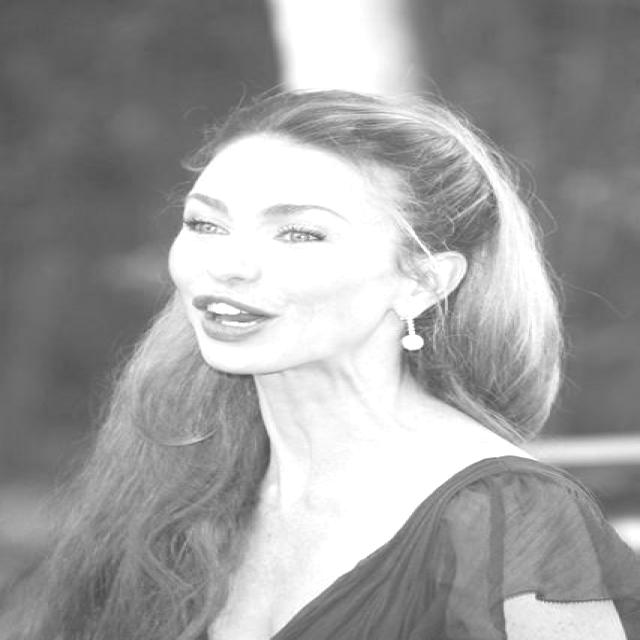real: (166, 170, 384, 376)
